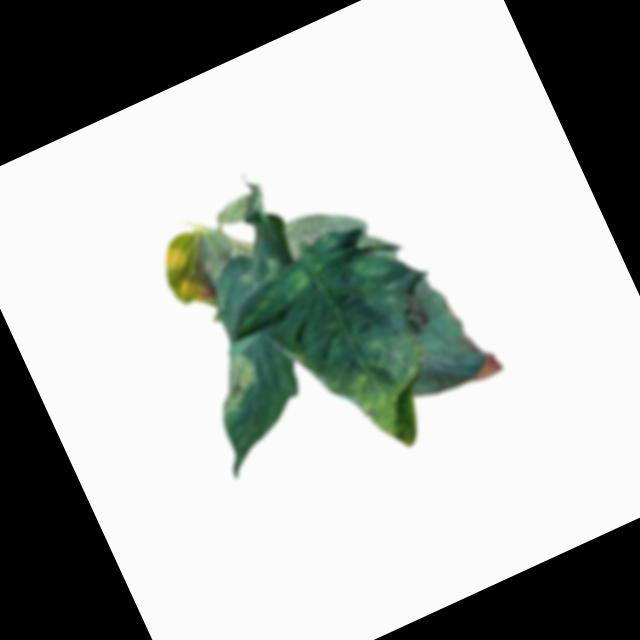Leaf_Mold: (150, 229, 224, 320), (201, 345, 272, 416), (269, 203, 346, 266), (386, 271, 453, 343)
